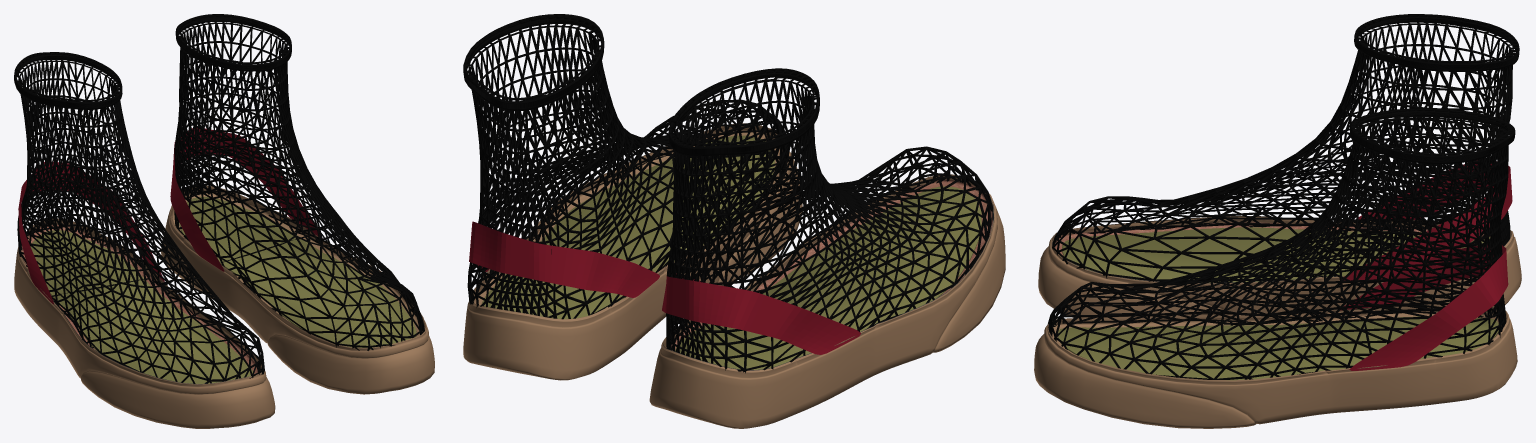
Rendered from boots.gltf.
3 views of the same model, side by side, from view 1: azimuth 30°, elevation 25°; view 2: azimuth 150°, elevation 25°; view 3: azimuth 270°, elevation 25° (orthographic). The views are drawn at different scales.
Parts seen in each view (by area): view 1: Cube_Cube.006, Cube_Cube.001, Plane.009, Plane.002, Plane.003, Plane.001; view 2: Cube_Cube.006, Cube_Cube.001, Plane.009, Plane.002, Plane.001, Plane.003; view 3: Cube_Cube.001, Plane.002, Cube_Cube.006, Plane.009, Plane.003, Plane.001.
Part boxes in pixels (<box>): Cube_Cube.006: <box>14,52,264,383</box>; Cube_Cube.001: <box>173,14,424,350</box>; Plane.009: <box>14,218,275,428</box>; Plane.002: <box>161,185,434,394</box>; Plane.003: <box>170,128,322,271</box>; Plane.001: <box>18,161,164,304</box>; Cube_Cube.006: <box>666,68,993,373</box>; Cube_Cube.001: <box>463,14,788,319</box>; Plane.009: <box>649,174,1005,428</box>; Plane.002: <box>463,123,802,380</box>; Plane.001: <box>662,273,860,354</box>; Plane.003: <box>469,221,659,297</box>; Cube_Cube.001: <box>1047,108,1515,379</box>; Plane.002: <box>1034,305,1517,428</box>; Cube_Cube.006: <box>1052,14,1519,282</box>; Plane.009: <box>1038,216,1521,317</box>; Plane.003: <box>1340,244,1508,370</box>; Plane.001: <box>1343,160,1512,280</box>.
Size of the model in its own units: 4.49 by 3.34 by 5.5.
Materials: 7 (2 with a texture image).
